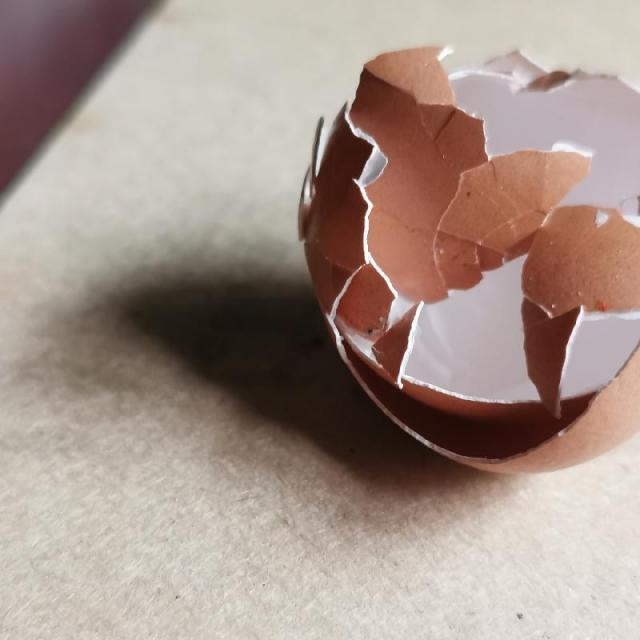egg shell: (288, 38, 640, 476)
